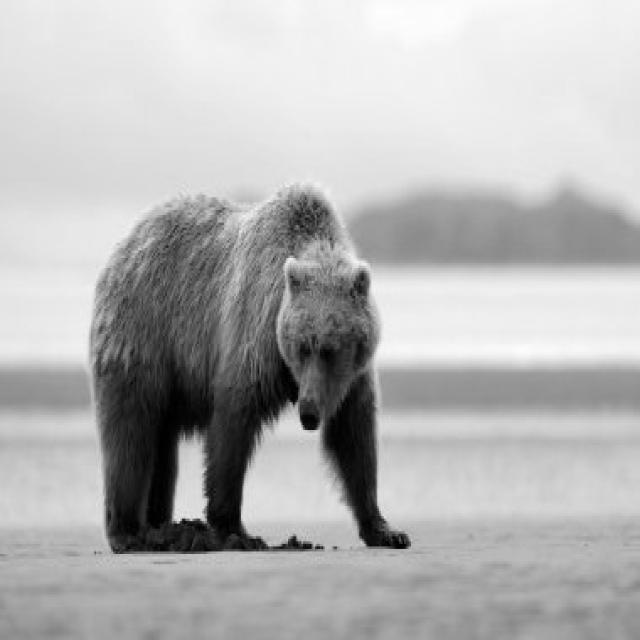Animal: (89, 184, 410, 552)
